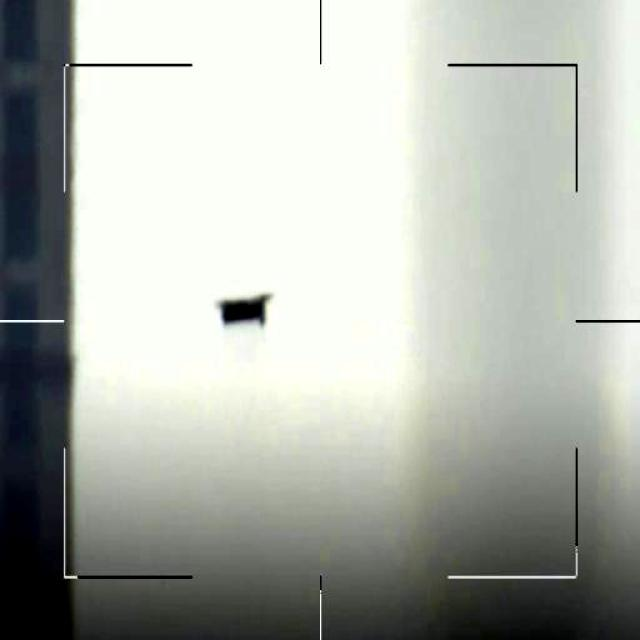bird: (220, 292, 276, 325)
